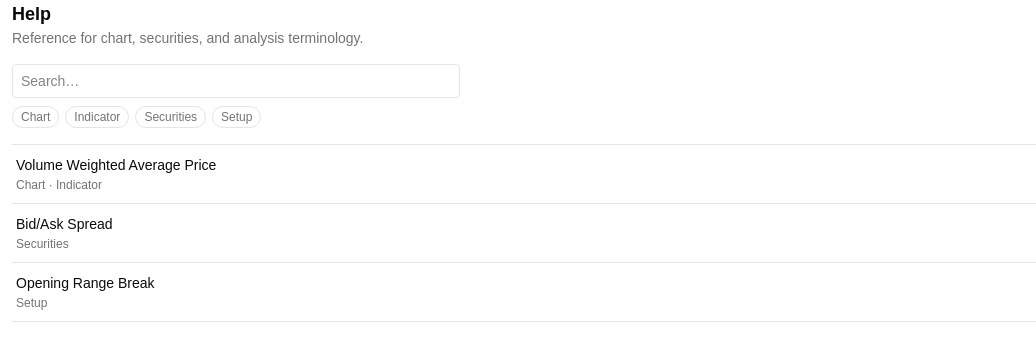
Scenario: Help route — list › matches search against aliases (operators recall abbreviations)
The width and height of the screenshot is (1036, 339).
Expected: the text "Opening Range Break" is shown, x1=16 y1=275 x2=154 y2=291
Type "orb" into the search field named "search help" at (236, 81), box x1=12 y1=64 x2=460 y2=98
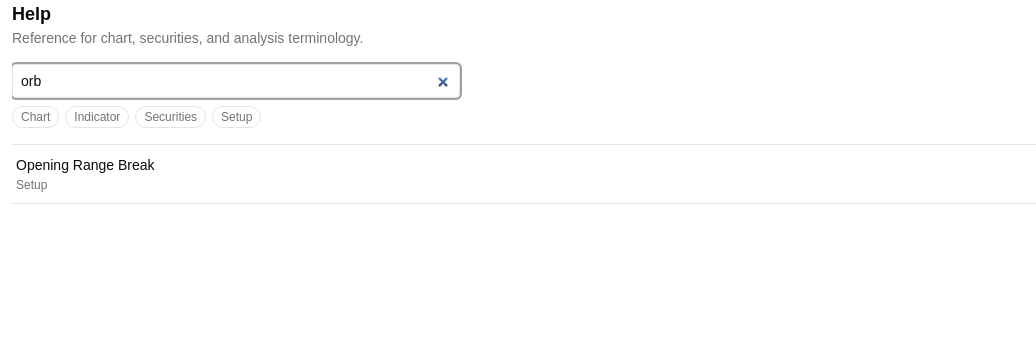
Expected: the text "Opening Range Break" is shown, x1=16 y1=157 x2=154 y2=173
Expected: the link "Volume Weighted Average Price" is gone
